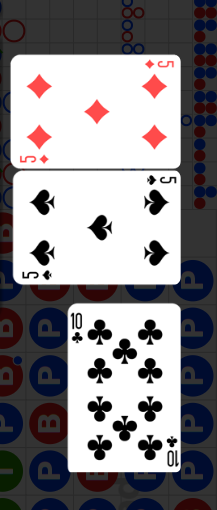10C: (164, 433, 179, 468)
5D: (143, 58, 175, 70)
5S: (145, 174, 177, 187)
